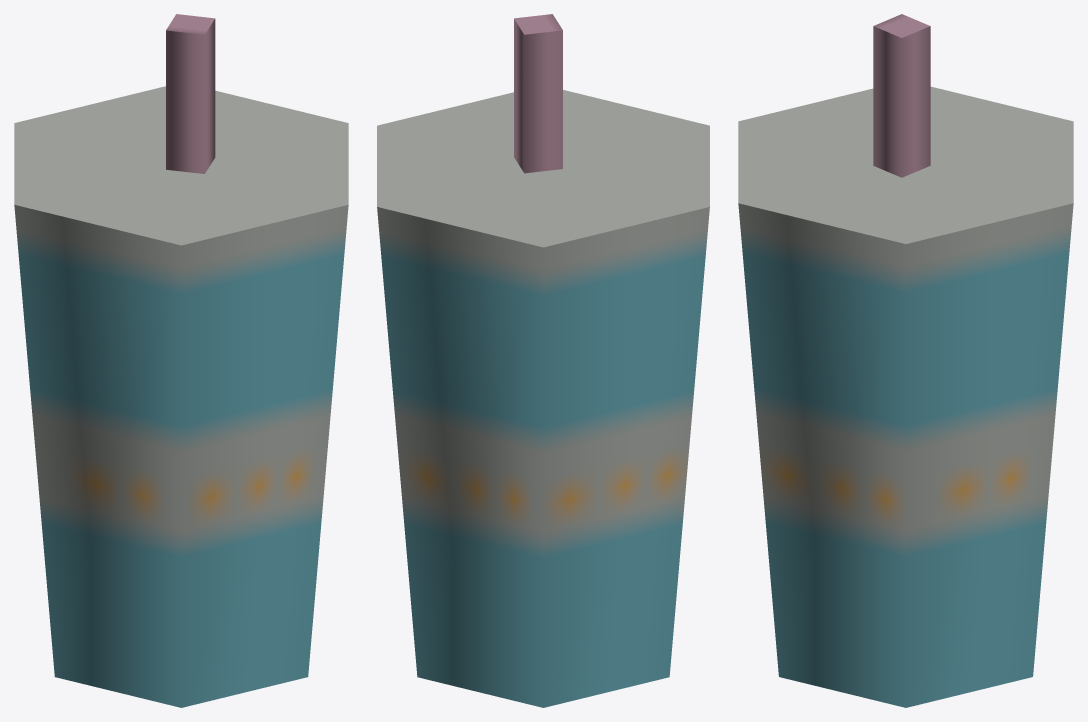
The model's file is Pixel_Misc_S_0039.fbx.
3 renders of one model, left to right at view 1: azimuth 30°, elevation 25°; view 2: azimuth 150°, elevation 25°; view 3: azimuth 270°, elevation 25°, orthographic.
Parts seen in each view (by area): view 1: Pixel_Misc_S_0039; view 2: Pixel_Misc_S_0039; view 3: Pixel_Misc_S_0039.
Boxes of the visible parts, left/top/right/bottom form: Pixel_Misc_S_0039: left=14, top=14, right=348, bottom=707; Pixel_Misc_S_0039: left=377, top=14, right=709, bottom=707; Pixel_Misc_S_0039: left=738, top=14, right=1073, bottom=707.
Bounding box in the file's own units: 16.98 × 30.16 × 14.7.
